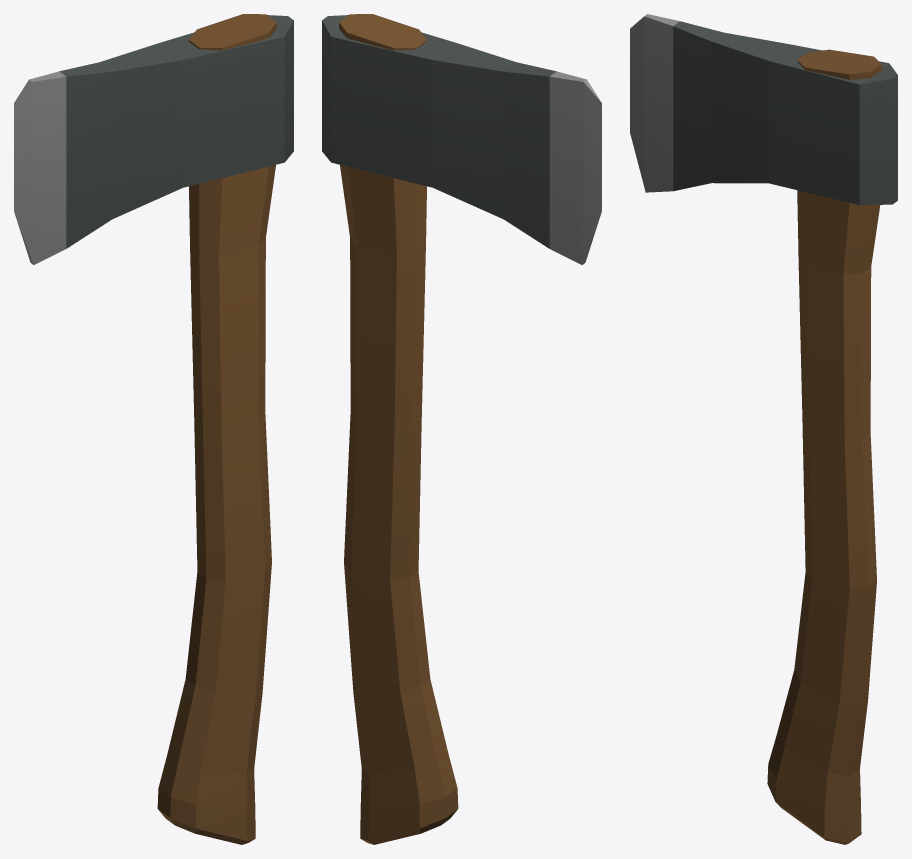
File: Tool_Axe_01.obj
The picture shows the model from 3 angles, left to right: view 1: azimuth 30°, elevation 25°; view 2: azimuth 150°, elevation 25°; view 3: azimuth 330°, elevation 25°; orthographic projection. The views are drawn at different scales.
Parts seen in each view (by area): view 1: Tool_Axe_01; view 2: Tool_Axe_01; view 3: Tool_Axe_01.
Boxes of the visible parts, x1=… form: Tool_Axe_01: x1=14, y1=14, x2=293, y2=844; Tool_Axe_01: x1=322, y1=14, x2=601, y2=844; Tool_Axe_01: x1=630, y1=14, x2=897, y2=844.
Size of the model in its own units: 0.2468 by 0.6939 by 0.0474.
1 material, 1 textured.
